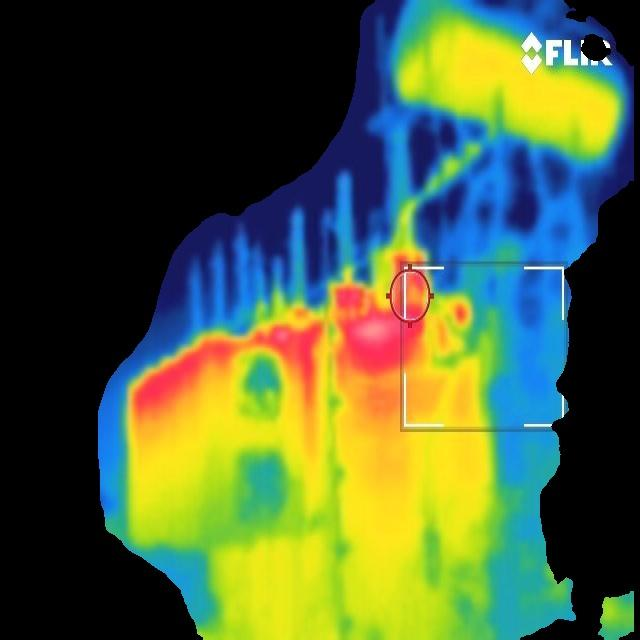Point Overload F: (336, 232, 434, 382)
Transformer Overload: (131, 310, 330, 544)
